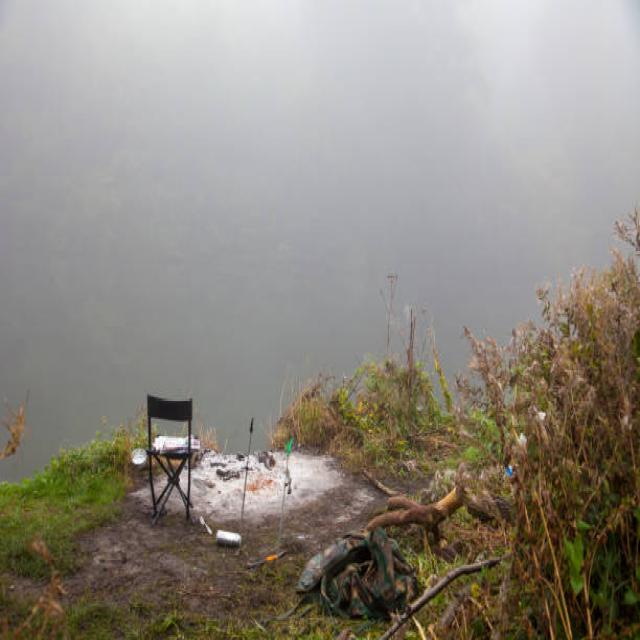trash: (168, 438, 315, 516)
